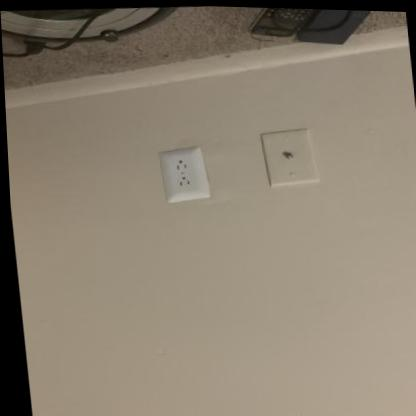OUTLET: (159, 146, 210, 204)
